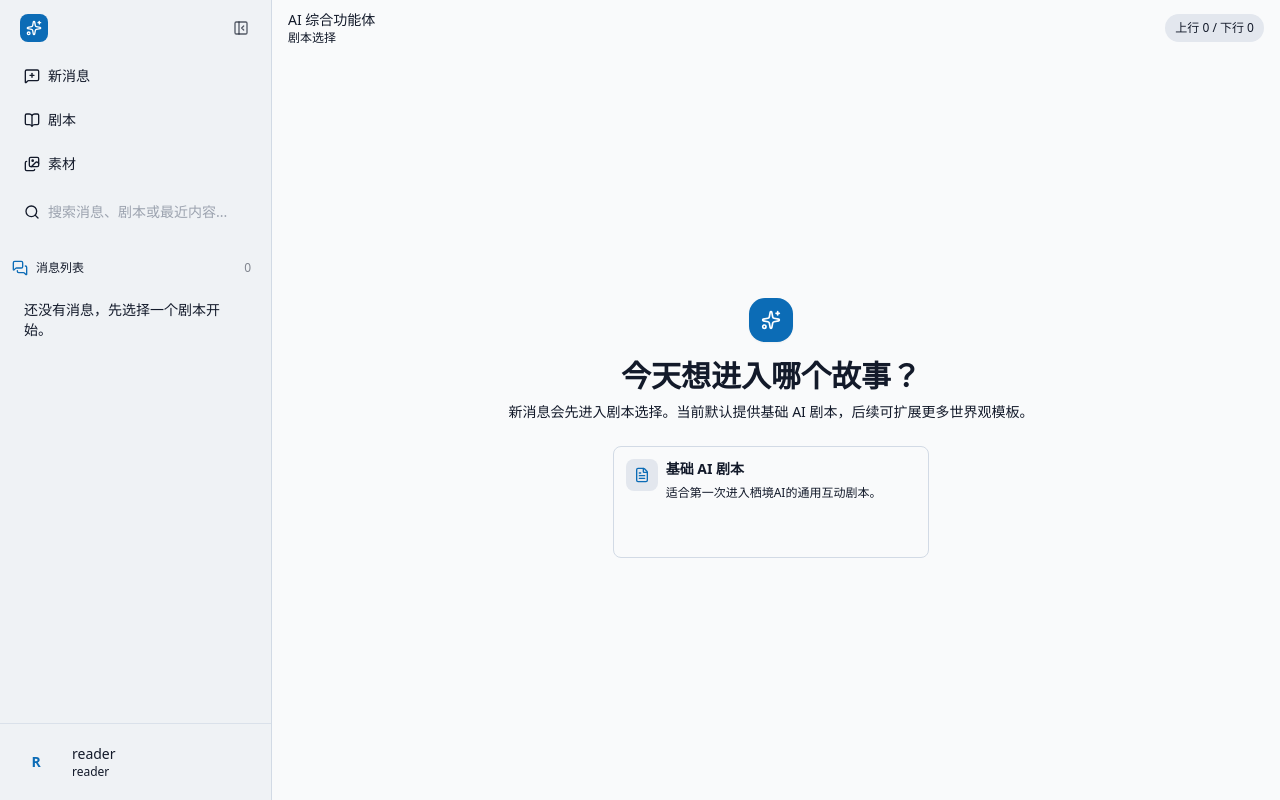
Test: HomeWorkspace script manager › opens my scripts by default and can switch to community scripts
Click the button "剧本": (136, 120) left=12, top=100, right=259, bottom=140
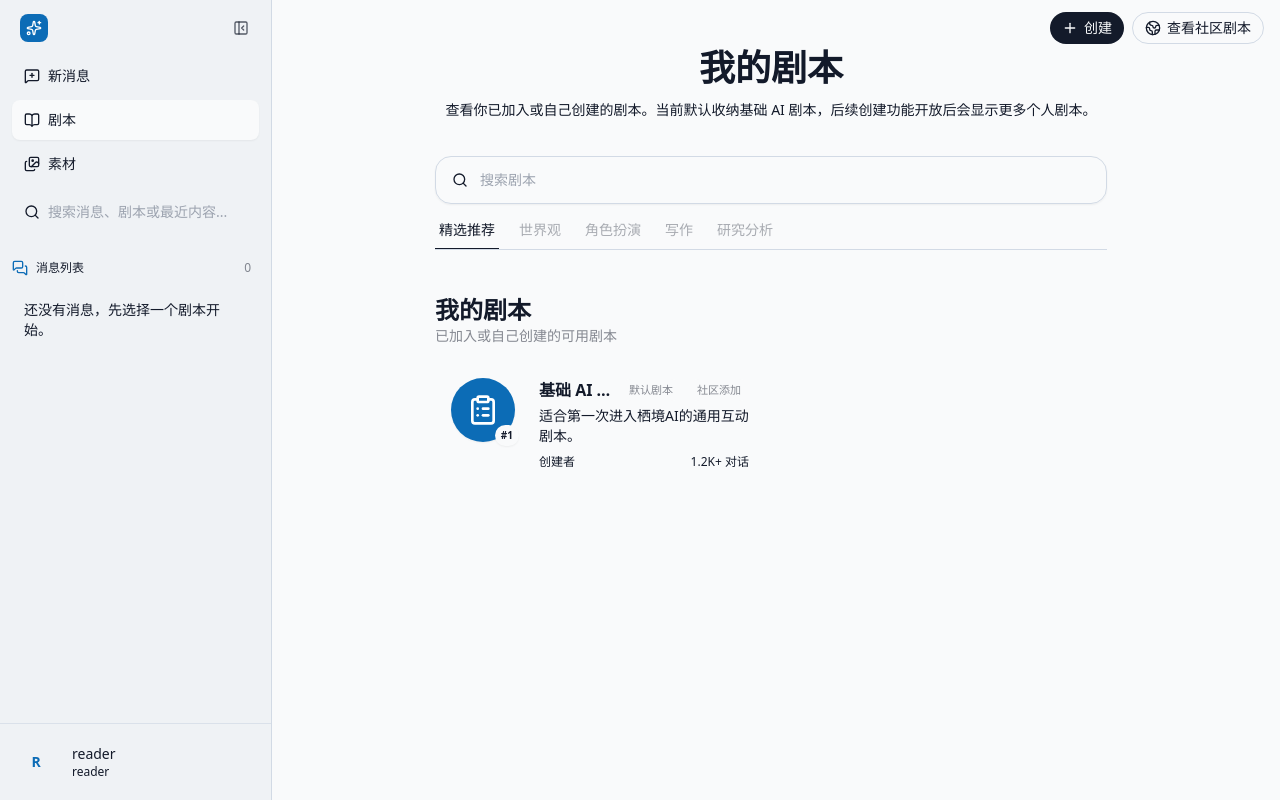
Check: the 1st heading "我的剧本" is shown, box left=699, top=43, right=843, bottom=92
Check: the text "社区添加" is shown, box left=689, top=379, right=749, bottom=401
Check: the button "查看社区剧本" is shown
Click the button "查看社区剧本": (1198, 28) left=1132, top=12, right=1264, bottom=44
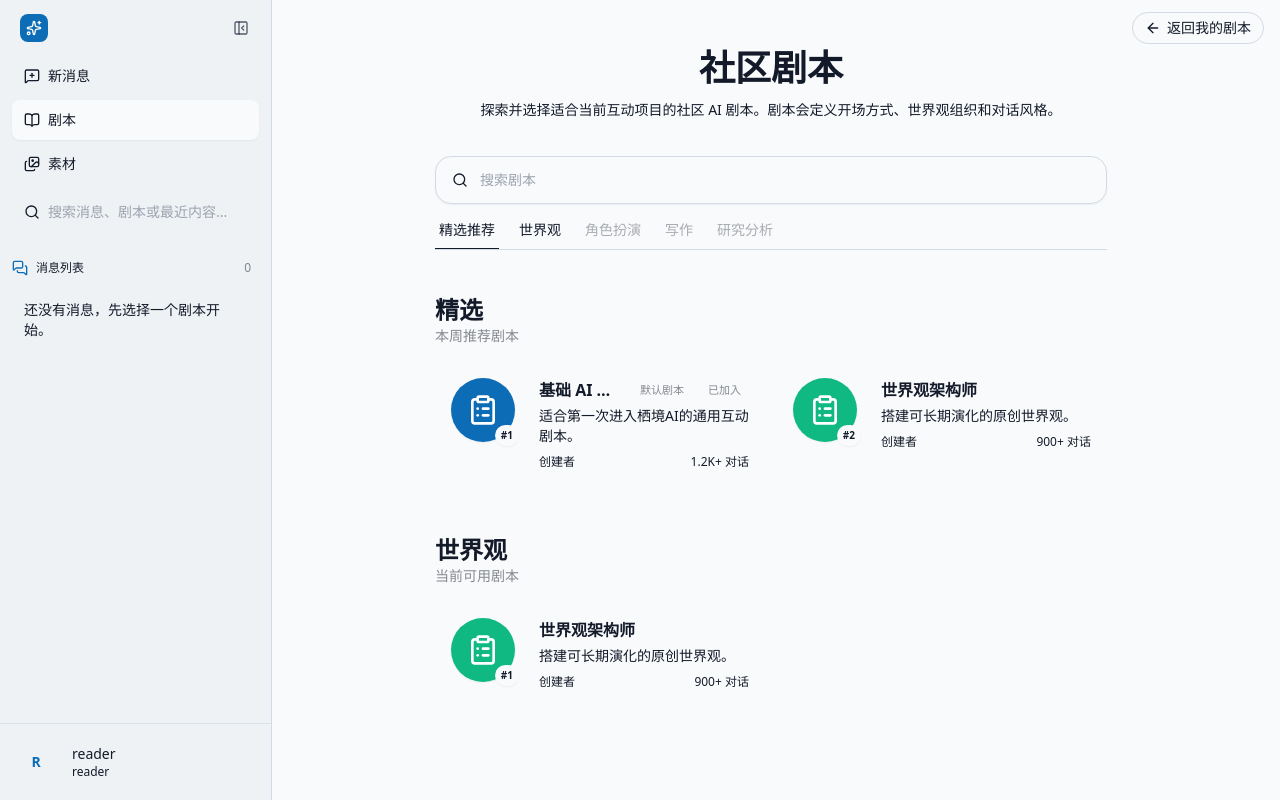
Check: the text "已加入" is shown, box left=700, top=379, right=749, bottom=401
Check: the heading "社区剧本" is shown, box left=699, top=43, right=843, bottom=92
Check: the 1st text "世界观架构师" is shown, box left=881, top=378, right=977, bottom=402
Click the button "返回我的剧本": (1198, 28) left=1132, top=12, right=1264, bottom=44
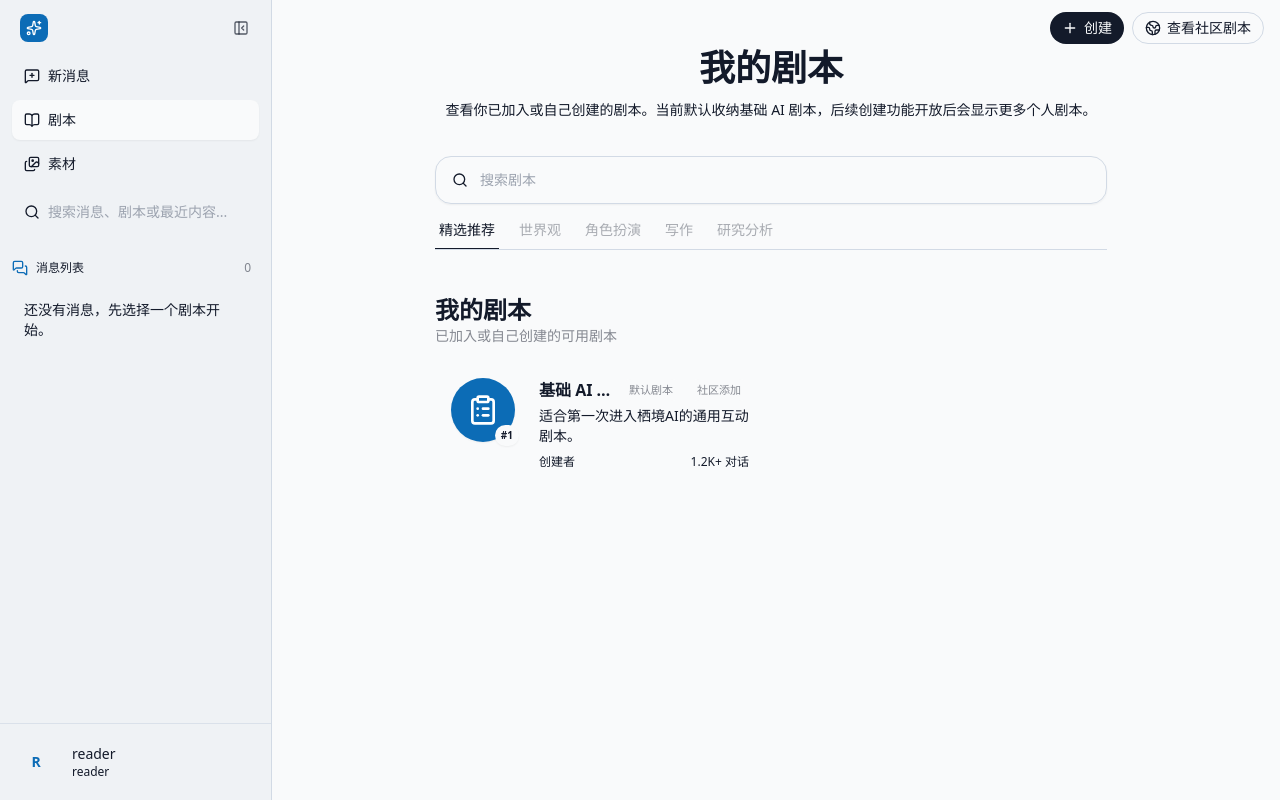
Check: the 1st heading "我的剧本" is shown, box left=699, top=43, right=843, bottom=92
Check: the button "世界观架构师" is gone
